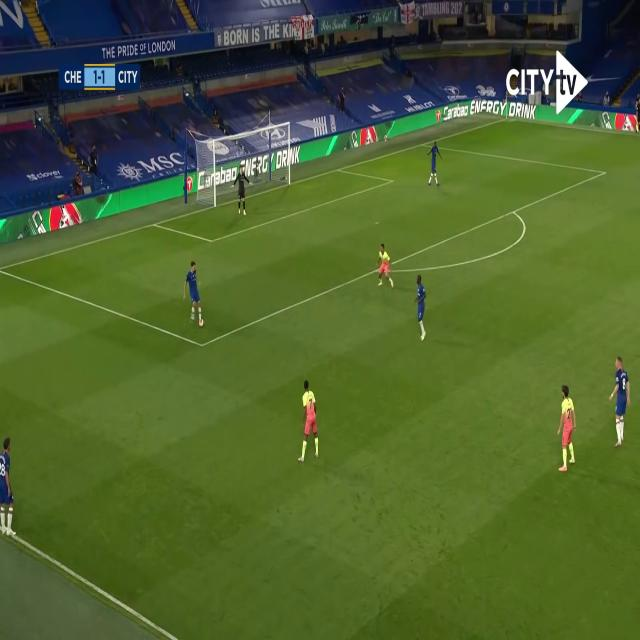ball: (198, 316, 206, 332)
team1: (610, 361, 629, 450), (0, 437, 16, 533), (186, 258, 206, 320), (414, 274, 428, 342), (428, 142, 443, 186)
team2: (295, 380, 321, 466), (558, 386, 578, 476), (374, 242, 394, 289)
